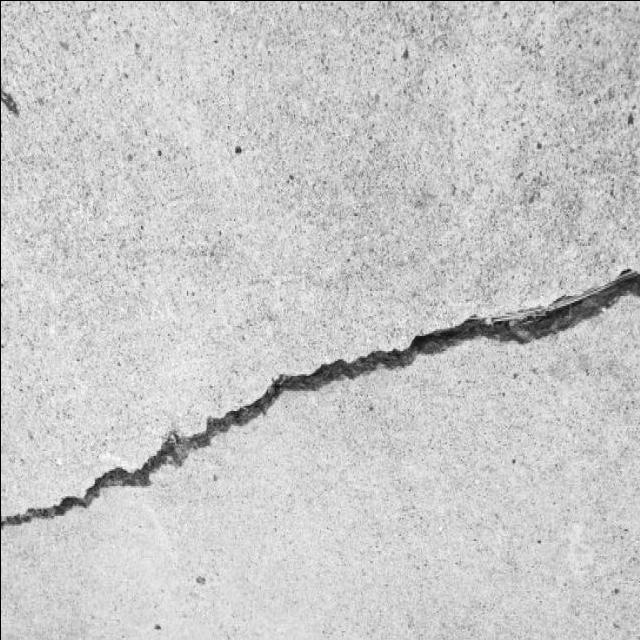SurfaceCrack: (0, 220, 639, 630)
